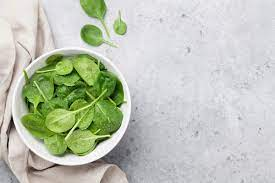spinach: (48, 77, 113, 135)
